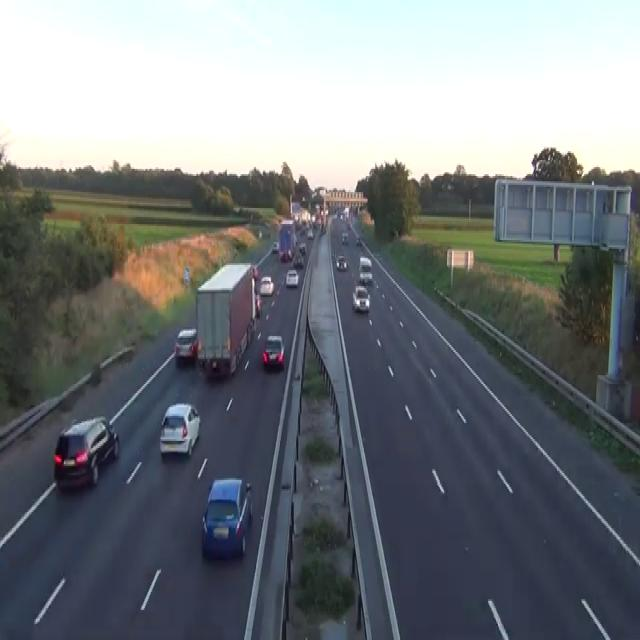Car: (53, 414, 119, 489), (201, 476, 252, 558), (159, 402, 200, 455), (175, 327, 197, 363), (262, 334, 284, 368), (352, 285, 370, 311), (358, 256, 372, 283), (259, 276, 274, 295), (285, 268, 298, 286), (336, 254, 347, 270), (359, 256, 371, 270), (292, 252, 303, 266), (255, 292, 261, 316), (279, 249, 291, 261), (252, 265, 259, 279), (183, 266, 189, 282), (341, 231, 348, 244), (299, 242, 306, 254), (272, 240, 278, 252), (306, 228, 313, 238), (337, 253, 344, 263), (320, 222, 326, 233), (446, 182, 454, 190), (233, 204, 240, 213), (355, 234, 361, 243), (299, 226, 305, 234), (347, 220, 351, 230), (441, 183, 446, 190), (258, 230, 262, 238)
Truck: (195, 261, 256, 377), (278, 219, 296, 261), (290, 201, 301, 224)
